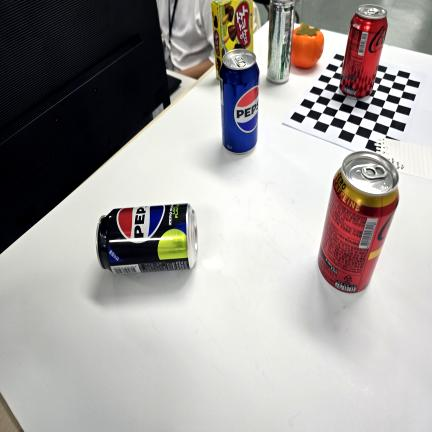can_coke_decaf: (316, 152, 399, 294)
can_coke_zero: (339, 5, 388, 96)
can_pepsi: (220, 49, 258, 151)
can_pepsi_zero: (96, 203, 201, 276)
